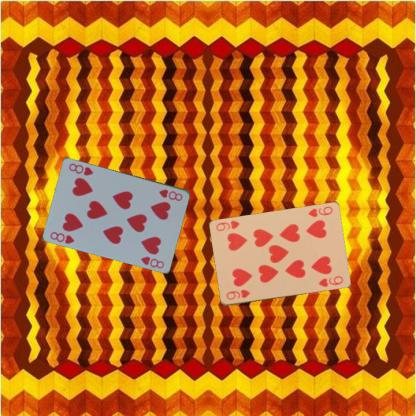8h: (47, 229, 76, 245), (156, 187, 184, 202)
9h: (305, 204, 334, 218), (224, 287, 251, 301)
